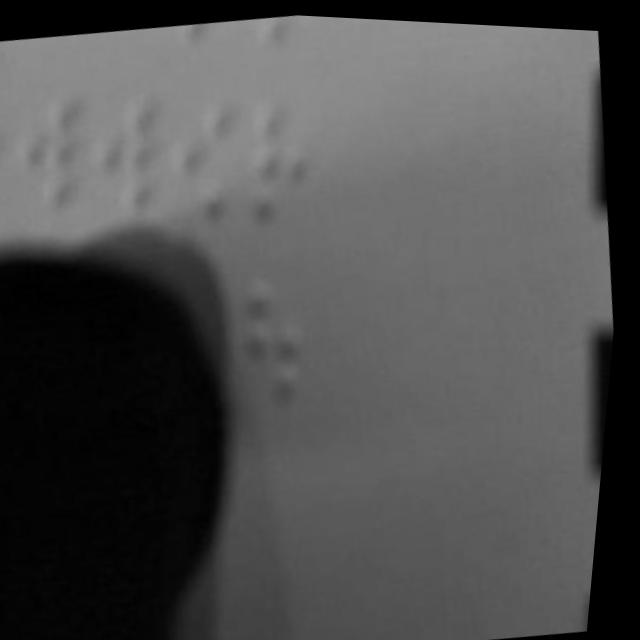braiile: (5, 91, 110, 244), (231, 84, 328, 242), (159, 92, 263, 239), (232, 256, 326, 411), (86, 97, 182, 248), (0, 83, 30, 232)
